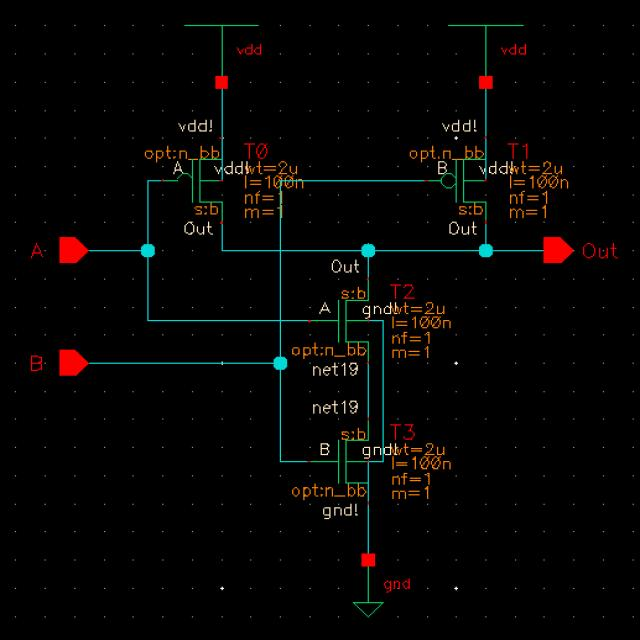nmos: (306, 416, 375, 508), (308, 276, 374, 364)
pmos: (163, 137, 228, 227), (427, 136, 490, 223)
